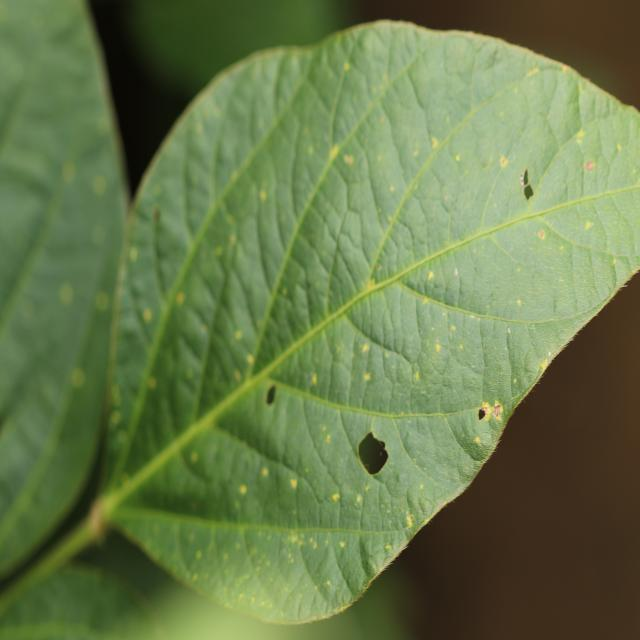Soybean: (36, 20, 640, 628)
downey_mildew: (174, 22, 629, 339), (114, 175, 463, 534), (6, 271, 319, 627), (454, 89, 640, 434), (229, 68, 369, 411), (268, 239, 507, 384), (358, 195, 624, 324), (121, 193, 243, 471), (388, 65, 552, 268), (312, 44, 437, 304), (0, 112, 90, 434), (330, 392, 474, 580), (106, 388, 264, 520), (177, 69, 263, 293), (382, 290, 499, 453), (212, 368, 352, 492), (519, 268, 631, 421), (528, 114, 637, 263), (51, 0, 128, 208), (0, 468, 109, 613), (192, 233, 270, 419), (289, 399, 387, 523), (329, 20, 475, 100), (229, 522, 345, 622), (398, 148, 490, 272), (247, 130, 304, 326), (122, 503, 373, 547), (89, 233, 128, 514), (393, 389, 491, 492), (0, 27, 48, 236), (107, 270, 160, 451), (77, 523, 177, 613), (396, 286, 598, 329), (406, 35, 481, 149), (118, 477, 260, 534), (345, 292, 456, 362), (502, 306, 565, 428), (148, 180, 198, 328), (266, 50, 318, 180), (292, 382, 461, 422), (580, 179, 640, 286), (174, 418, 247, 501), (482, 226, 570, 292), (195, 41, 325, 84), (574, 78, 638, 161), (477, 310, 518, 436), (468, 83, 530, 165), (354, 334, 407, 419), (548, 182, 640, 218), (446, 400, 500, 461), (305, 537, 349, 608), (333, 533, 377, 601), (423, 306, 462, 378), (569, 235, 604, 312), (546, 74, 582, 145), (362, 414, 399, 478), (370, 405, 498, 421), (292, 592, 310, 620), (440, 187, 456, 211)
